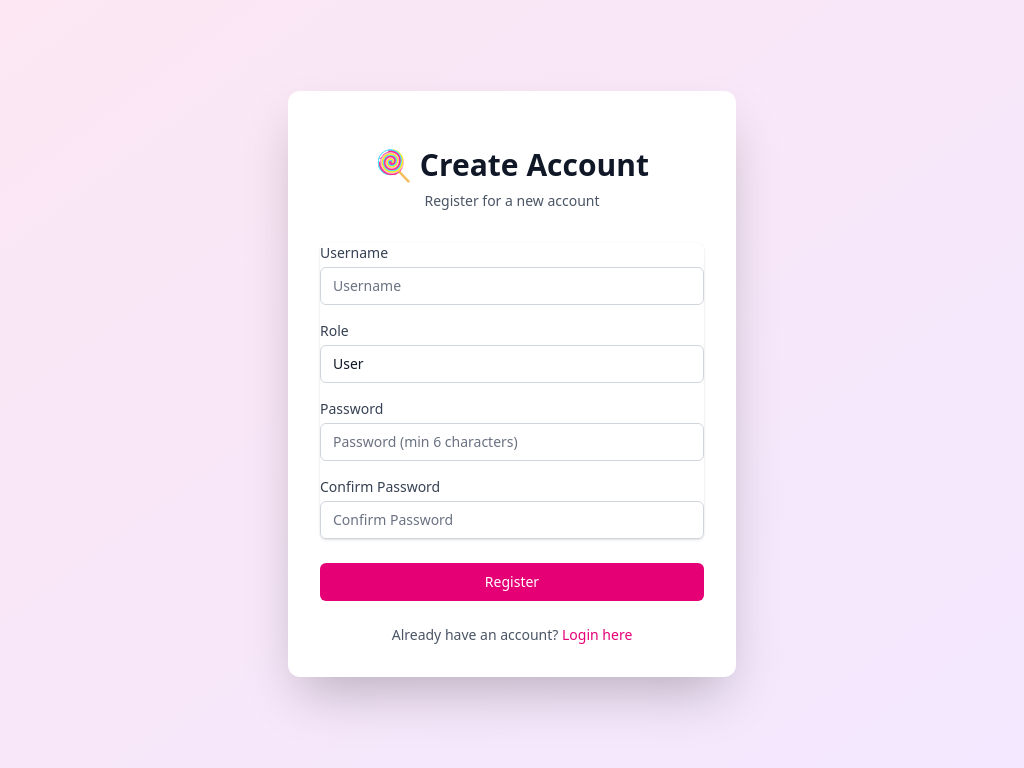
Test case: Register Page › should show error if passwords do not match
Type "testuser" into the field labelled "Username" at (512, 286), box [320,267,704,305]
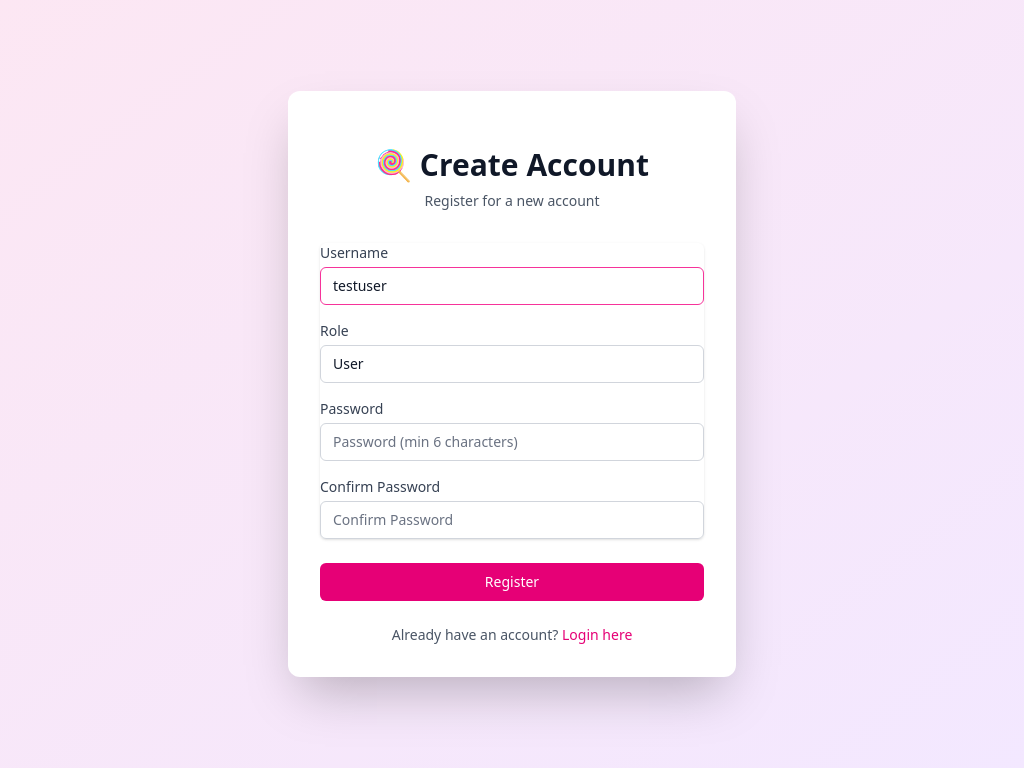
Type "password123" into the password field with placeholder "Password (min 6 characters)" at (512, 442), box [320,423,704,461]
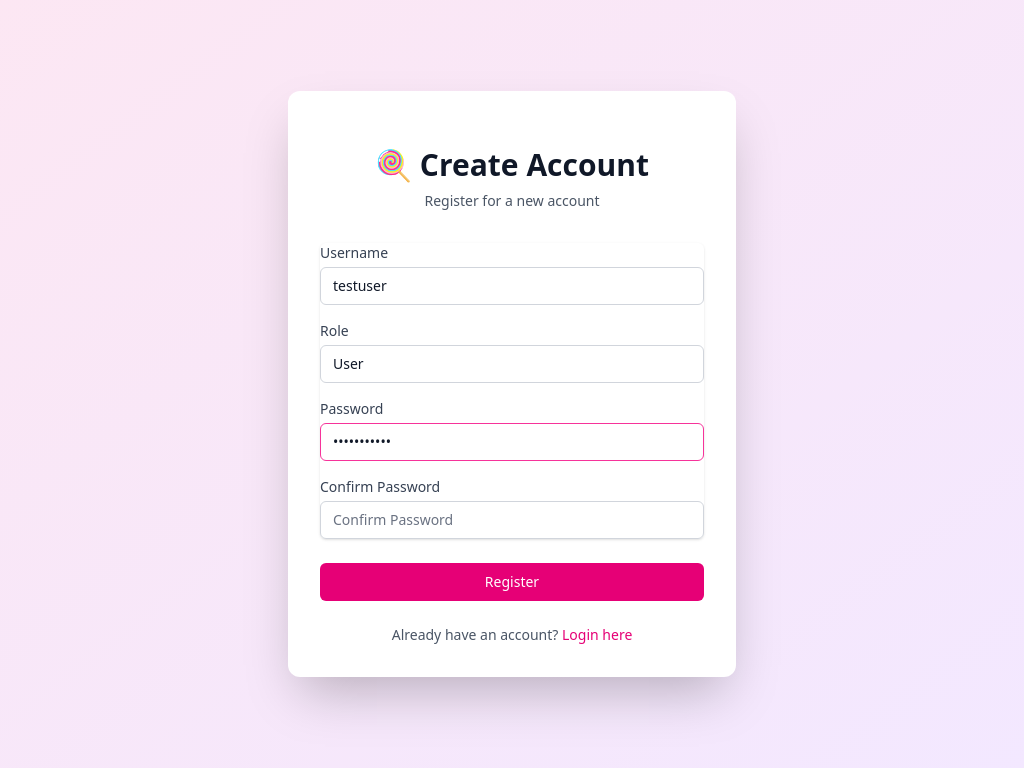
Type "differentpassword" into the password field with placeholder "Confirm Password" at (512, 520), box [320,501,704,539]
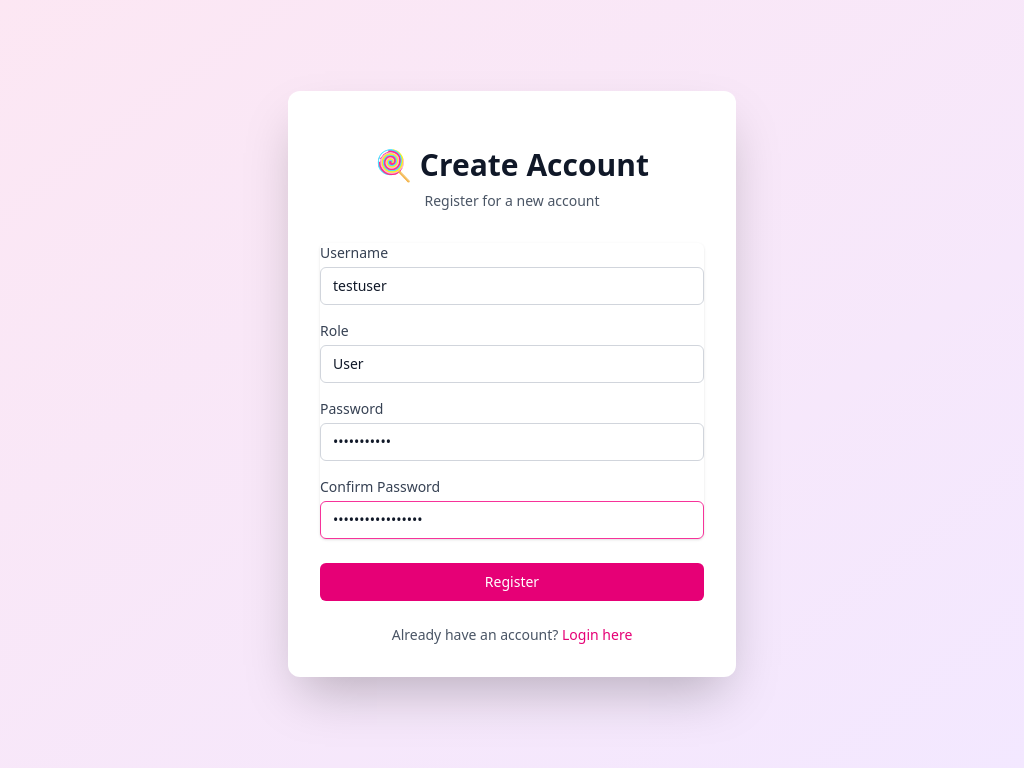
Click the button "Register" at (512, 582), box [320,563,704,601]
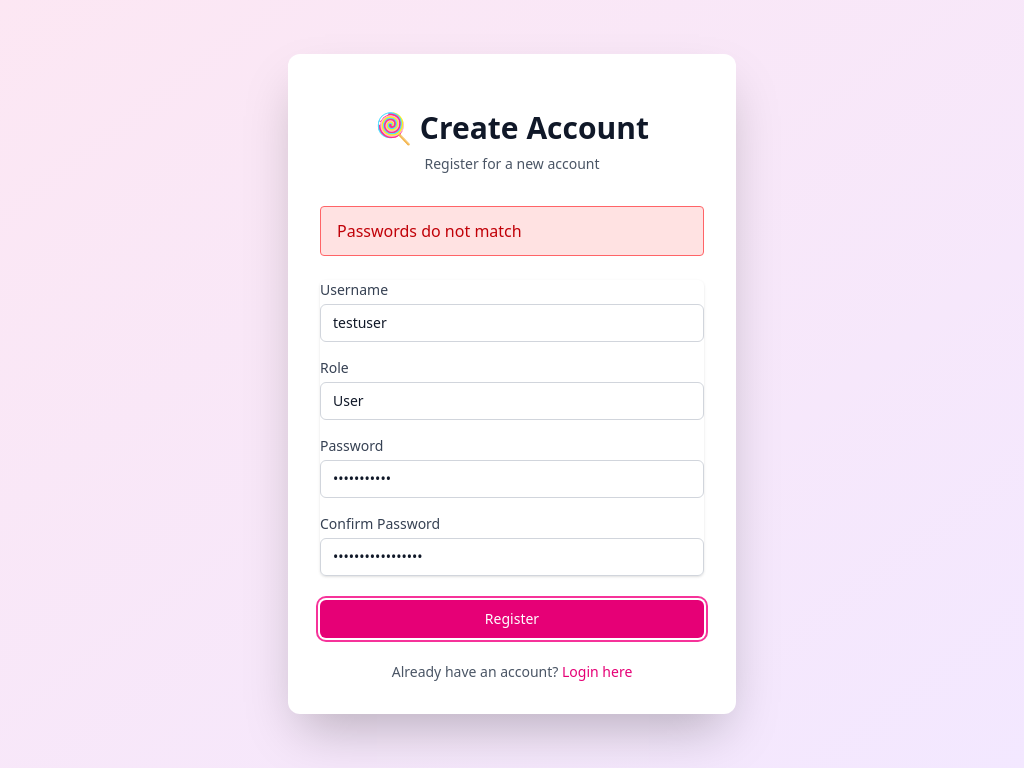
Now the text "Passwords do not match" is shown, box [320,206,704,256]
